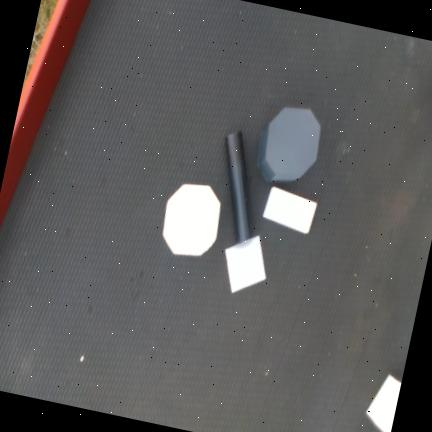Cilindro: (225, 132, 253, 243)
Paralelepipedo: (262, 186, 317, 234), (365, 373, 401, 432)
Piramide: (224, 235, 267, 294)
Prisma_hexagonal: (256, 107, 321, 183), (162, 183, 221, 257)
